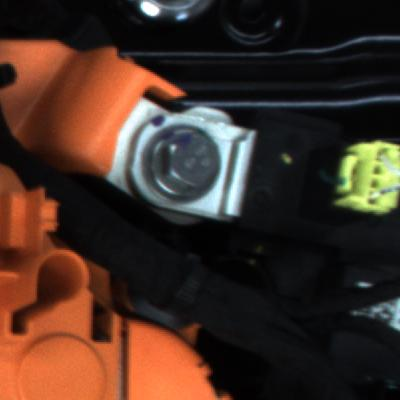nut_b: (143, 125, 237, 205)
